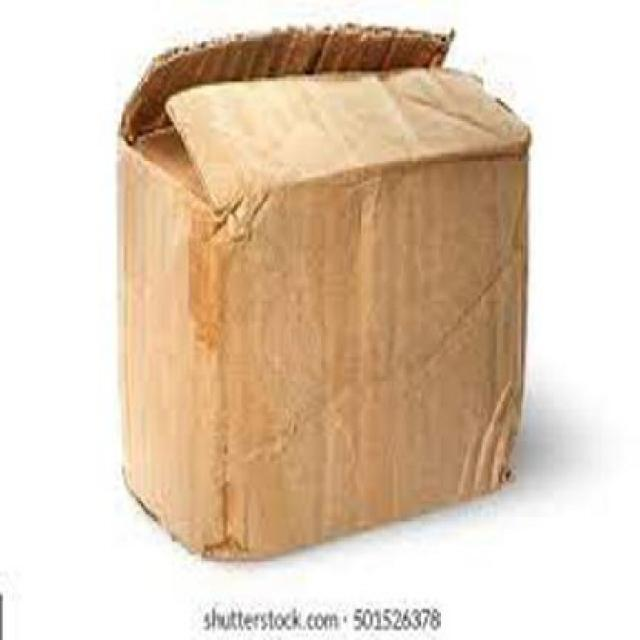Kardus kondisi rusak: (113, 24, 534, 568)
